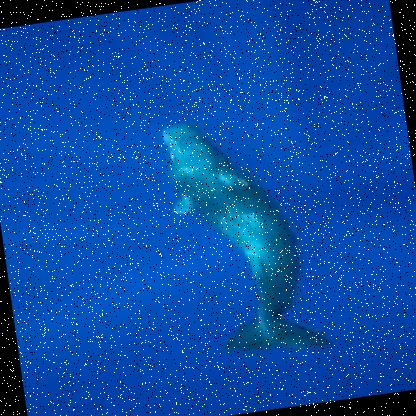sperm_whale: (141, 92, 375, 378)
